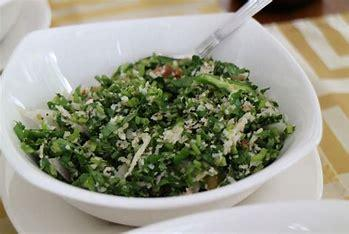Gotukola Mallum: (20, 46, 293, 200)
